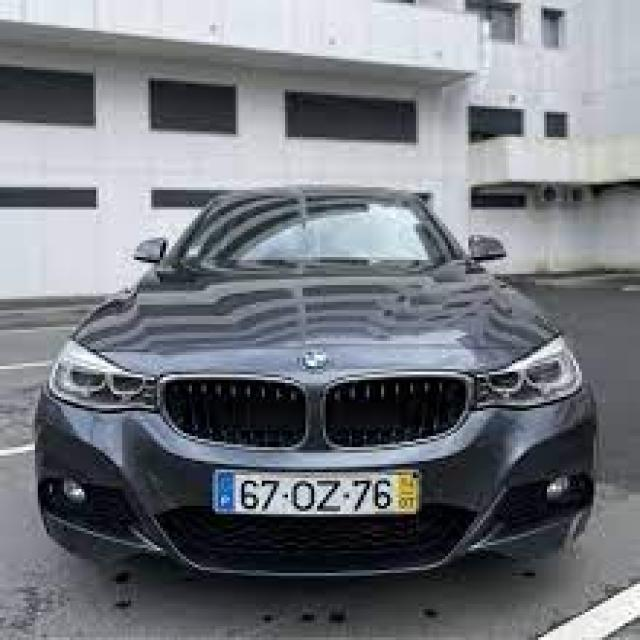portuguese-license-plates: (208, 463, 428, 524)
